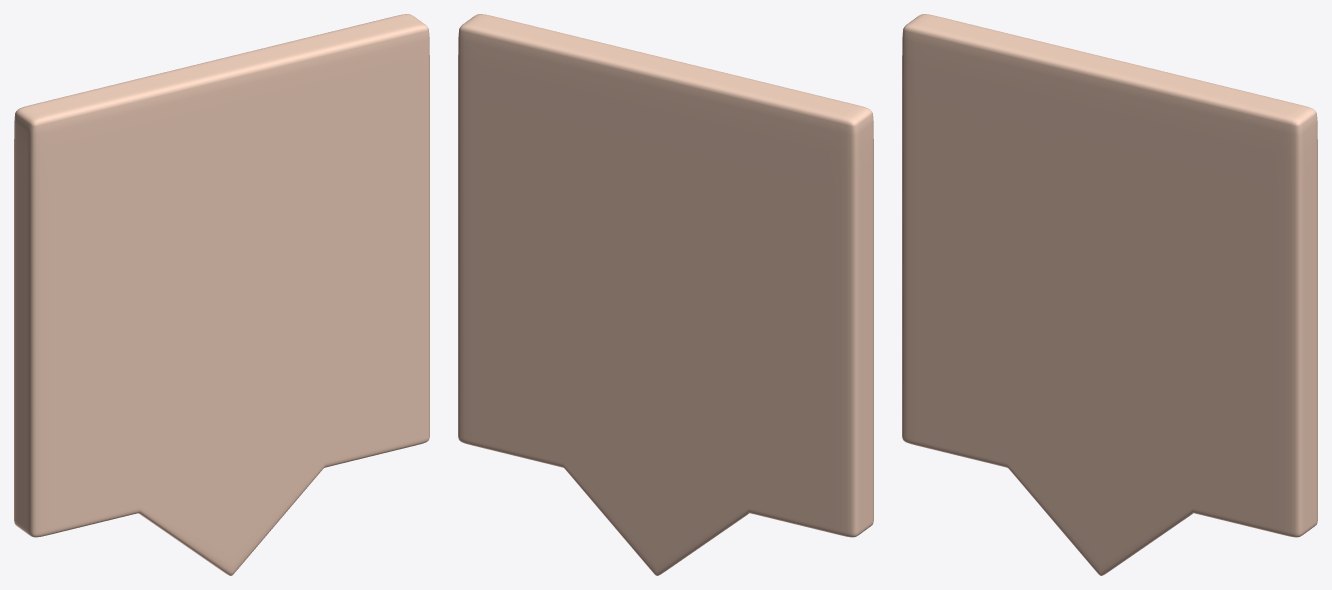
Rendered from arctic_tooltip.glb.
3 views of the same model, side by side, from view 1: azimuth 30°, elevation 25°; view 2: azimuth 150°, elevation 25°; view 3: azimuth 330°, elevation 25° (orthographic).
Visible parts, largest first — view 1: Arctic_Tooltip; view 2: Arctic_Tooltip; view 3: Arctic_Tooltip.
Boxes of the visible parts, x1,y1,x2,y2 form: Arctic_Tooltip: (14,14,429,575); Arctic_Tooltip: (458,14,873,575); Arctic_Tooltip: (902,14,1317,575).
Size of the model in its own units: 1.09 by 1.31 by 0.0992.
